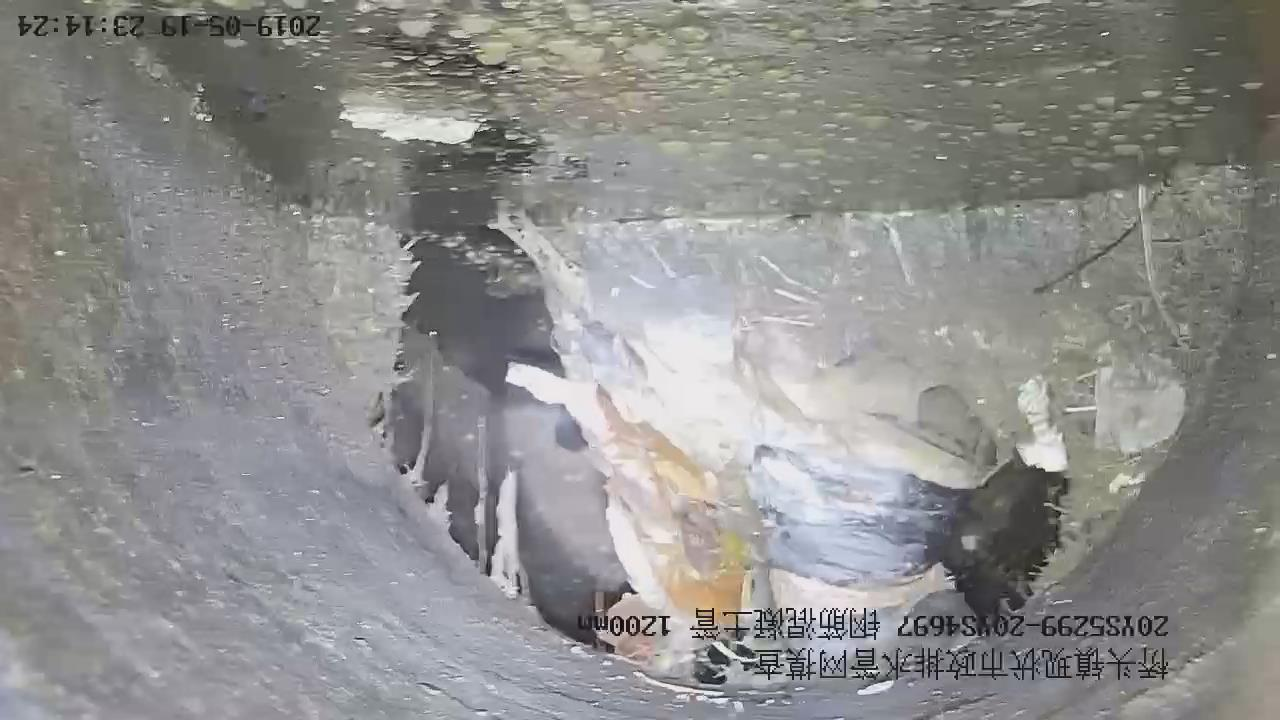FZ: (70, 1, 1261, 240)
ZAW: (493, 168, 1250, 695), (328, 227, 451, 515)
